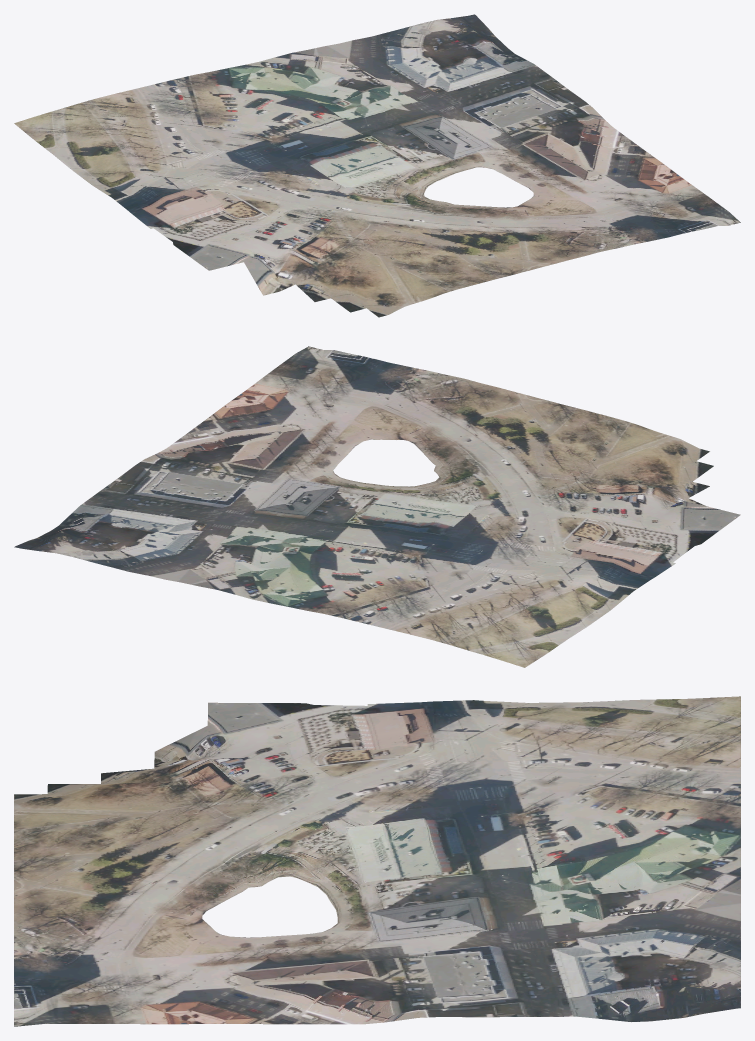
Rendered from CM_Terrain_24487387_6821227.fbx.
3 views of the same model, one above another, from view 1: azimuth 30°, elevation 25°; view 2: azimuth 150°, elevation 25°; view 3: azimuth 270°, elevation 25° (orthographic). The views are drawn at different scales.
Visible parts, largest first — view 1: CM_Terrain_24487387_6821227_LOD0; view 2: CM_Terrain_24487387_6821227_LOD0; view 3: CM_Terrain_24487387_6821227_LOD0.
Boxes of the visible parts, x1=… form: CM_Terrain_24487387_6821227_LOD0: x1=14, y1=14, x2=740, y2=317; CM_Terrain_24487387_6821227_LOD0: x1=14, y1=346, x2=740, y2=667; CM_Terrain_24487387_6821227_LOD0: x1=14, y1=696, x2=740, y2=1026.
Size of what is drawn, in the model's own units: 205 by 12.17 by 205.
